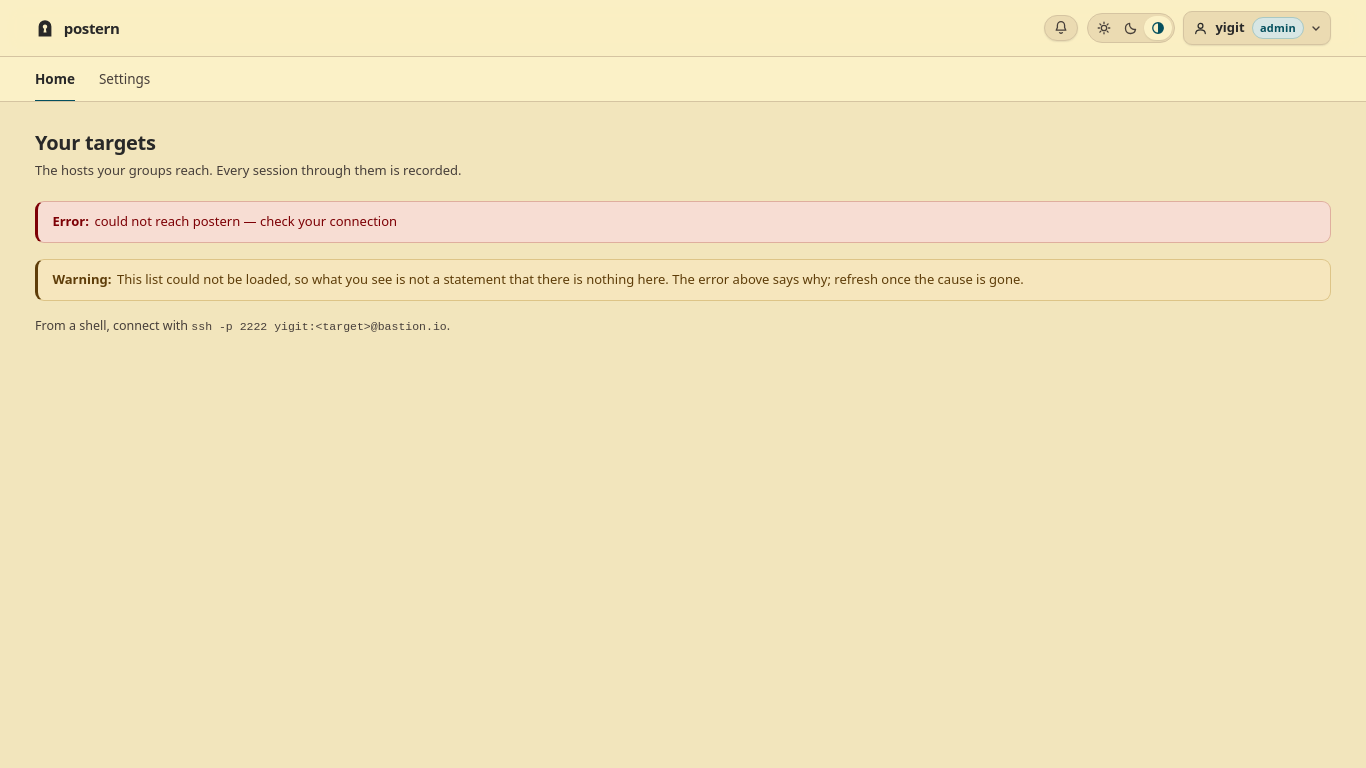
Test case: App gezinmesi › Settings acilinca sol bolum listesi cikar ve secili bolum isaretli olur
Click the button "Settings". click: (125, 80)
box: x1=99 y1=57 x2=150 y2=102
(page scrolled)
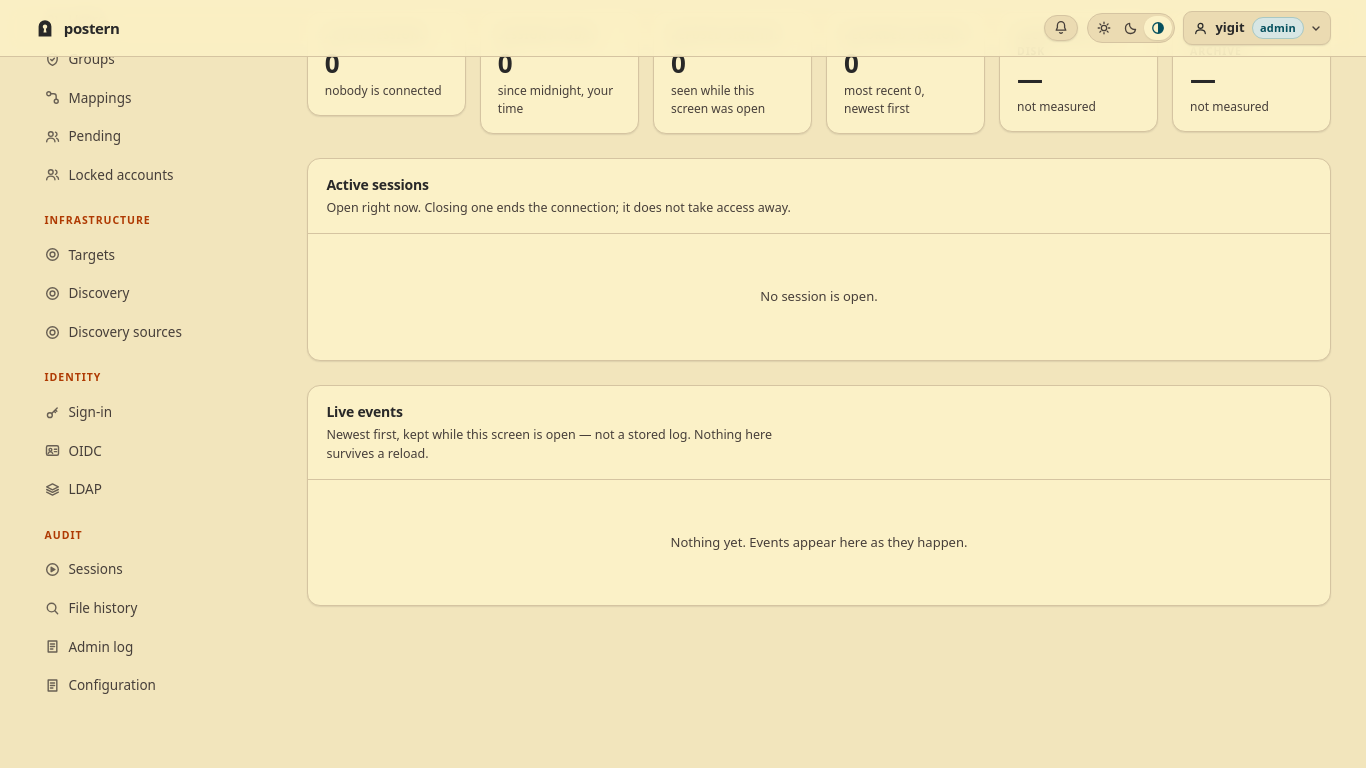
Expected: the button "Mappings" is shown, x1=35 y1=80 x2=275 y2=116
Expected: the button "LDAP" is shown, x1=35 y1=471 x2=275 y2=508
Expected: the button "Sessions" is shown, x1=35 y1=551 x2=275 y2=588
